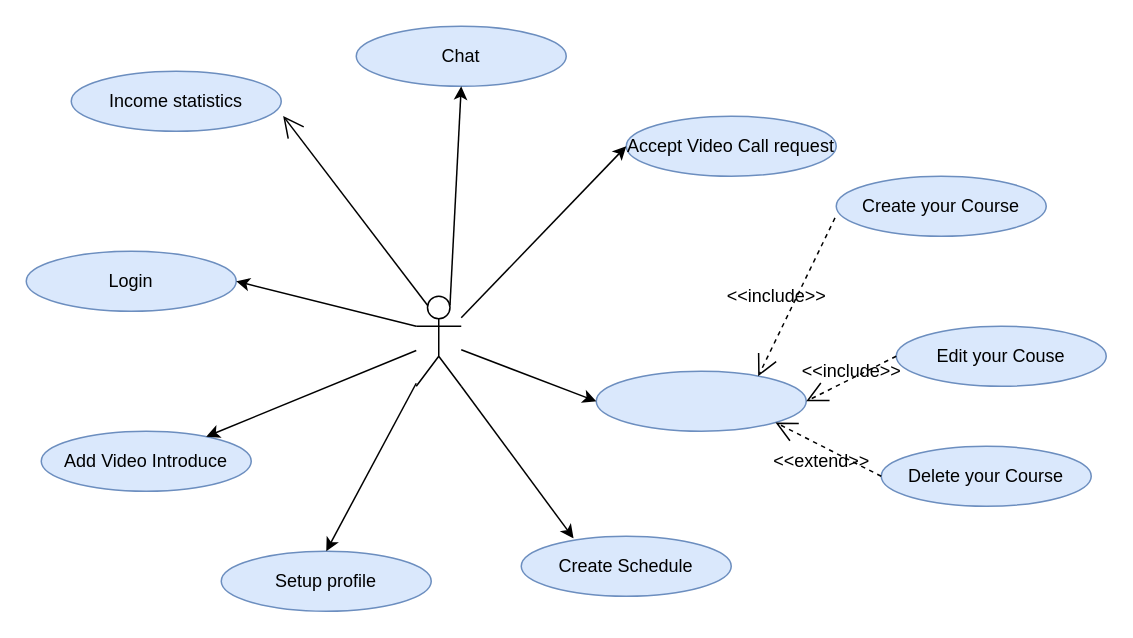
The diagram is 1133 pixels wide and 638 high, and some of its shapes have lost their labels. The centre of each missing label's shape, as x and y in pixels:
"Manager your Course" belongs at (700,400).
"Tutors" belongs at (438,340).
